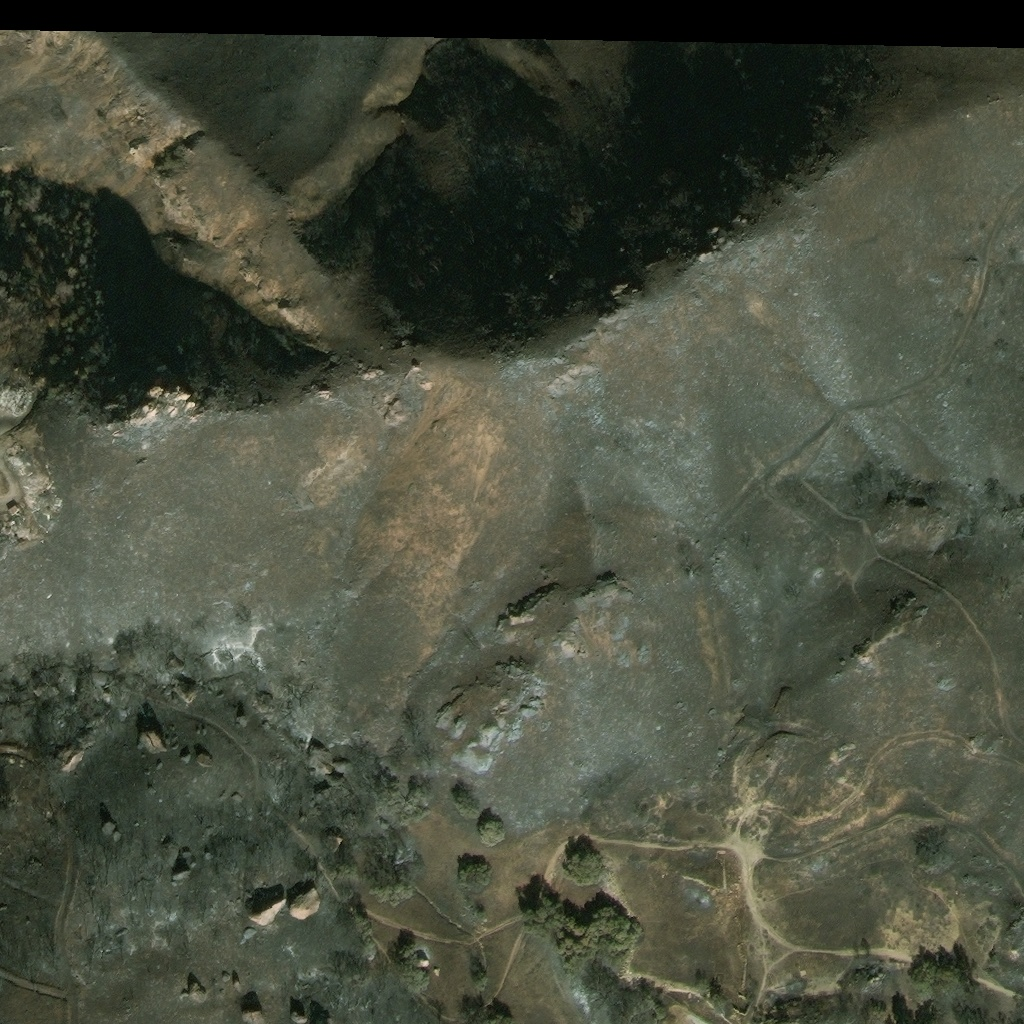3 destroyed: (3, 384, 32, 413)
